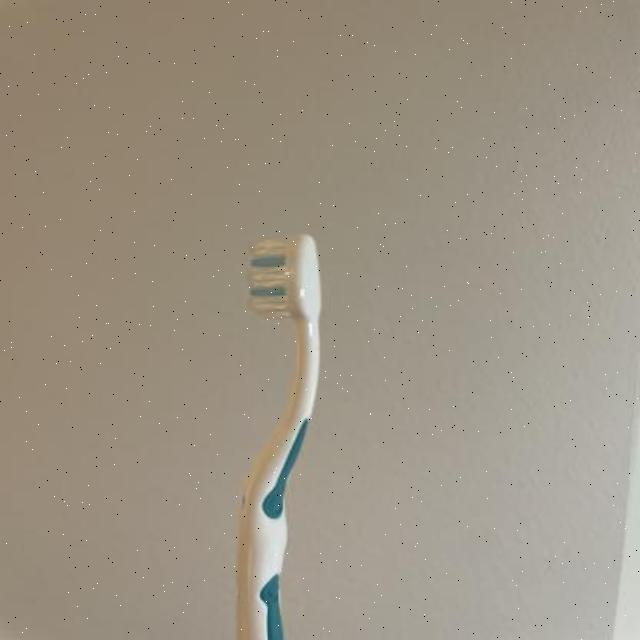toothbrush: (220, 216, 332, 640)
